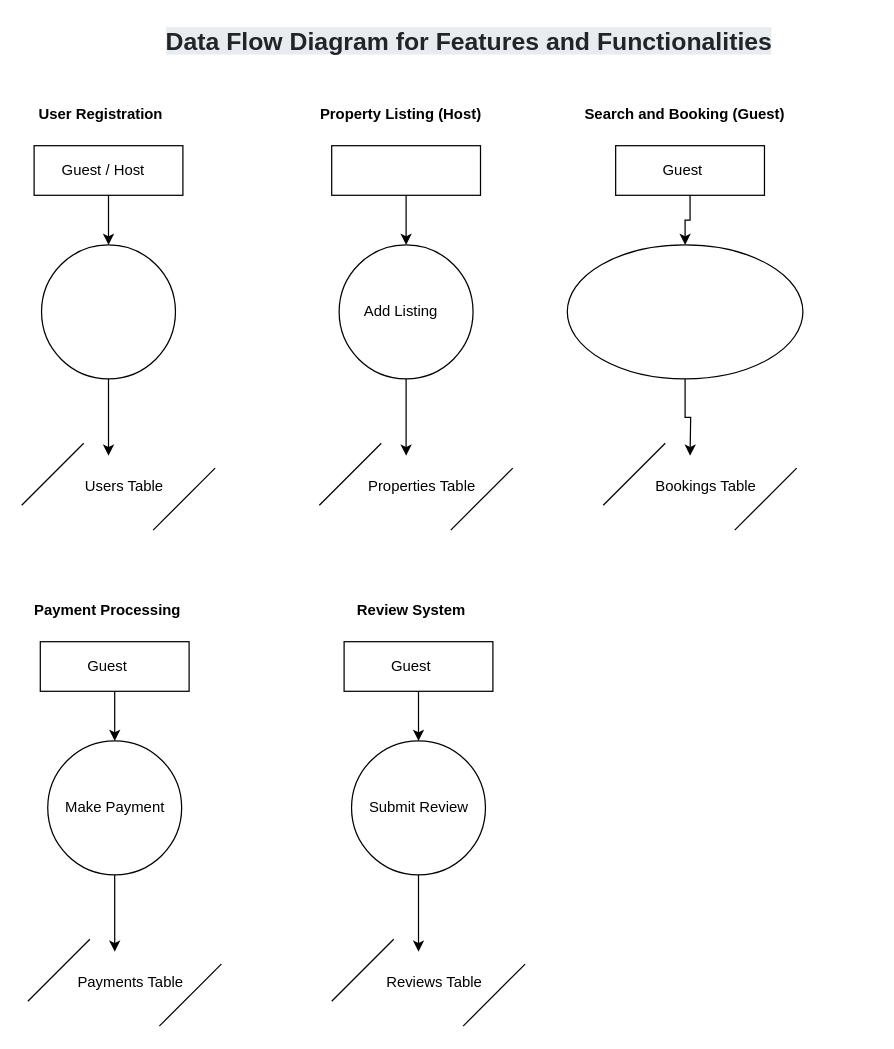
Image size: 894x1049. Some labels were removed from this diagram. Each missing label, with the centre of its shape:
Host: (405,169)
Register/Login: (107,311)
Search Listings → Book Property: (684,311)
